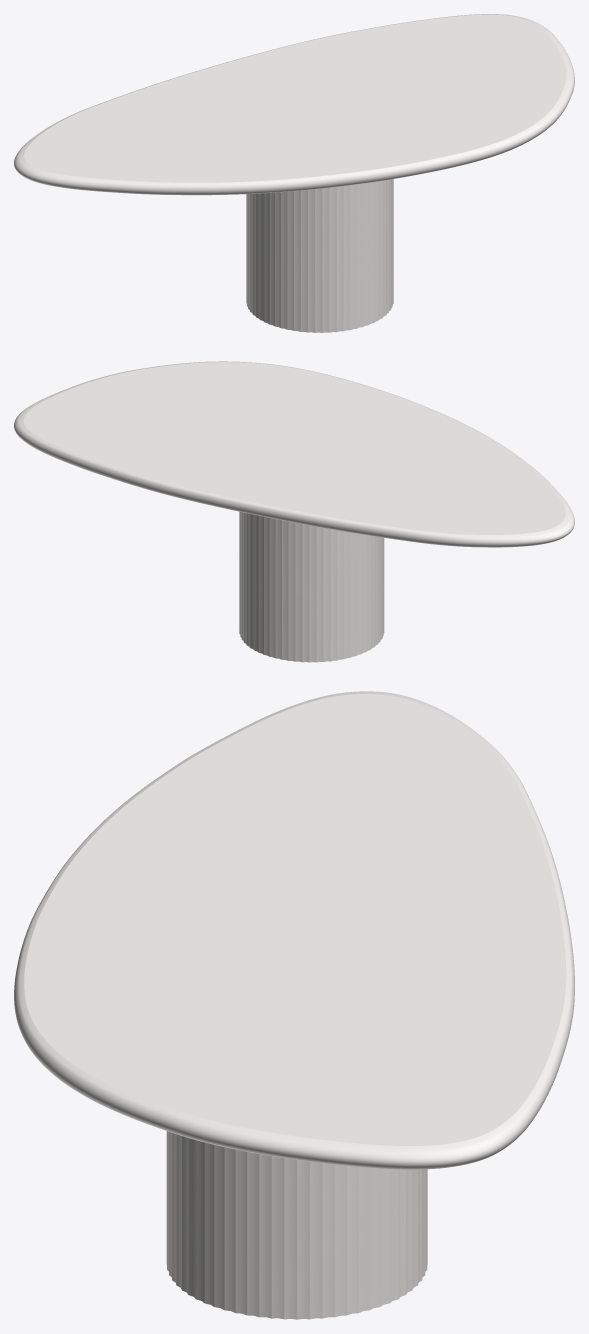
File: purewhite_pebbletop_round_ripple.glb
3 views of the same model, one above another, from view 1: azimuth 30°, elevation 25°; view 2: azimuth 150°, elevation 25°; view 3: azimuth 270°, elevation 25° (orthographic). The views are drawn at different scales.
Parts seen in each view (by area): view 1: round_pebbletop, ripple; view 2: round_pebbletop, ripple; view 3: round_pebbletop, ripple.
Part boxes in pixels (x1,y1,x2,y2): round_pebbletop: (14, 14, 574, 195); ripple: (246, 179, 393, 332); round_pebbletop: (14, 361, 574, 547); ripple: (239, 511, 384, 662); round_pebbletop: (14, 691, 574, 1169); ripple: (166, 1131, 427, 1319).
Bounding box in the file's own units: 7.5 × 2.51 × 3.8.
1 material, 1 textured.
